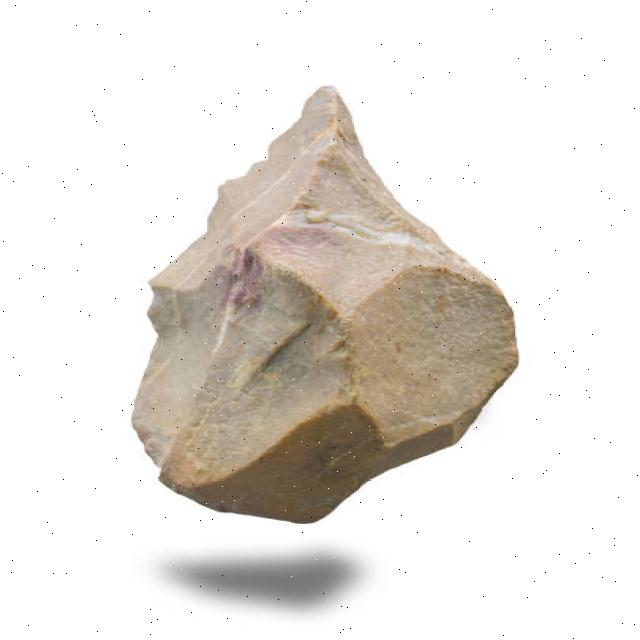Metamorphic: (147, 78, 520, 536)
